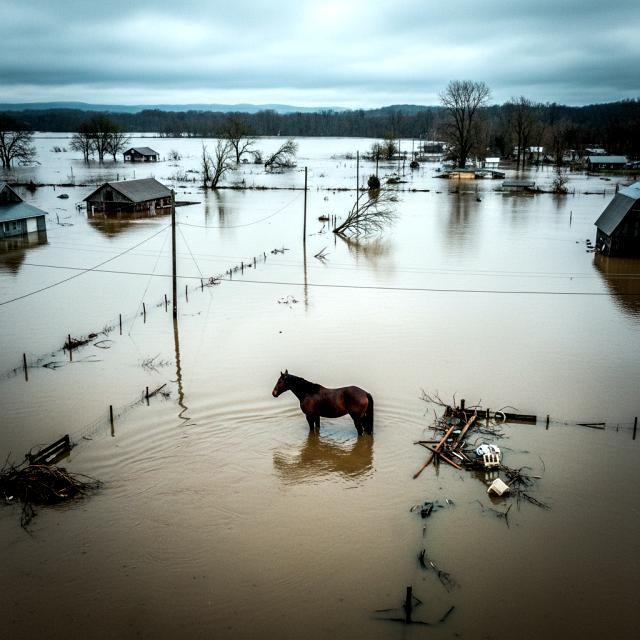horse: (264, 363, 390, 449)
